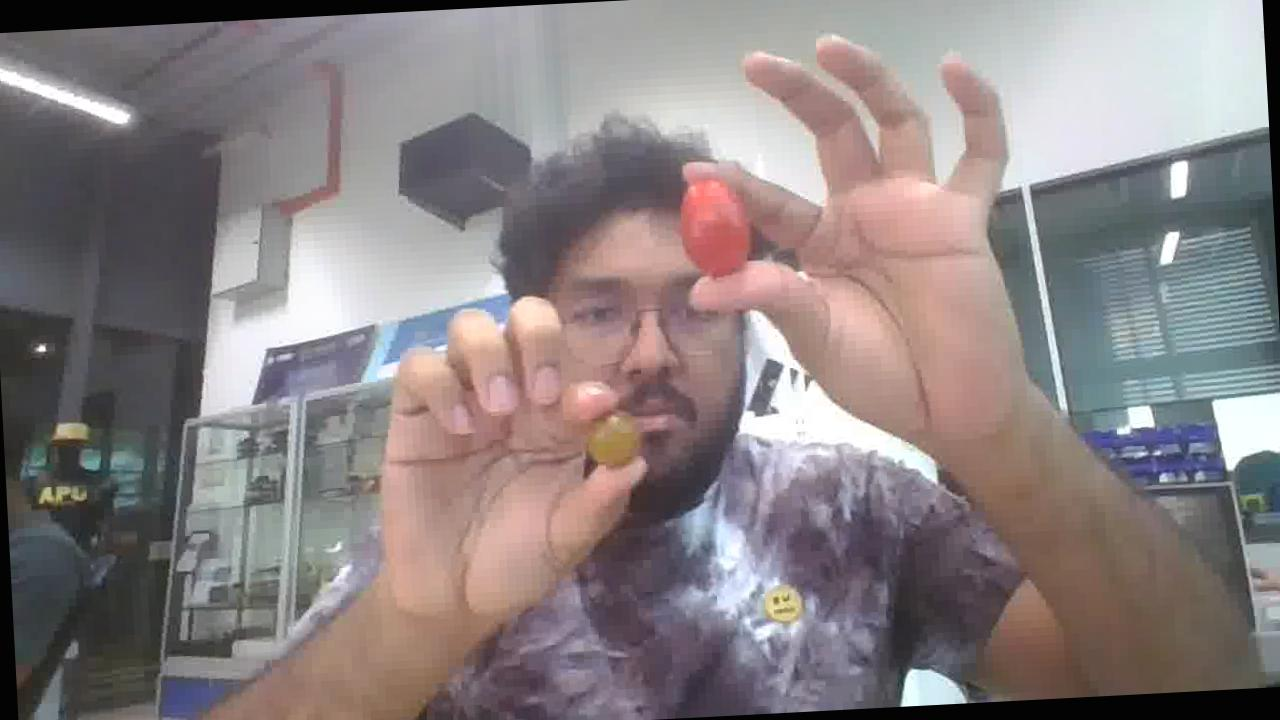red_cherry_tomato: (680, 180, 750, 277)
yellow_cherry_tomato: (587, 412, 639, 466)
